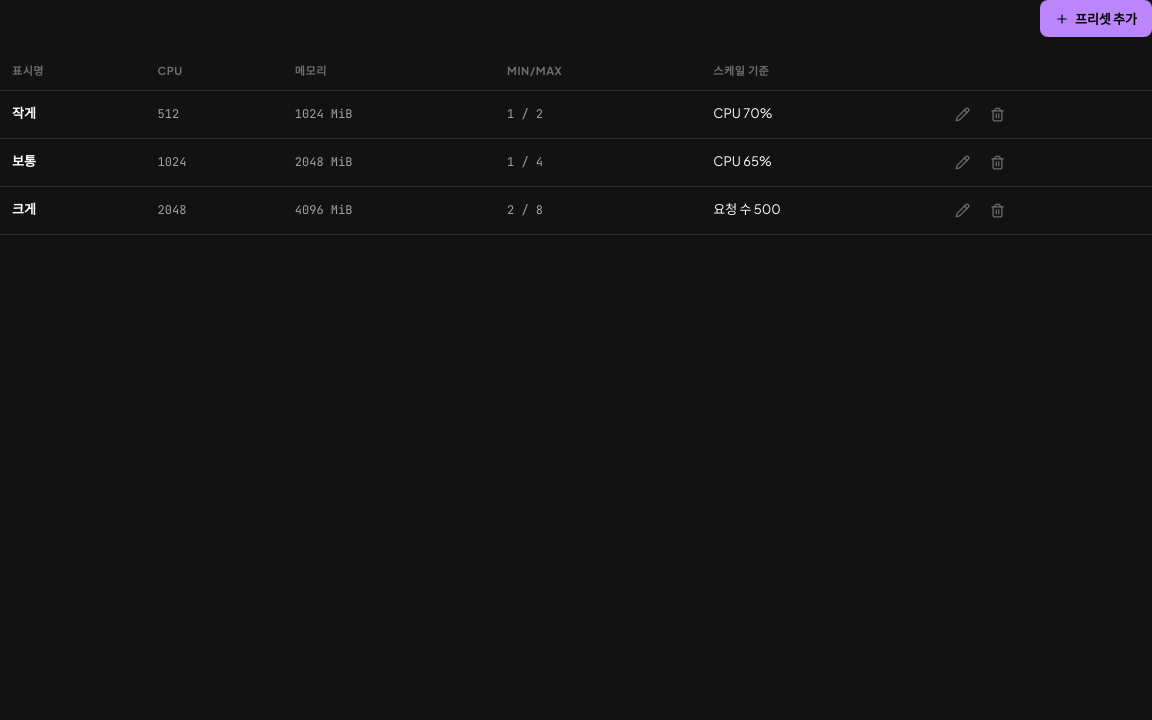
Scenario: M3 — 프리셋 삭제 › 사용 중(409 IN_USE)이면 서버 message 를 보여주고 목록은 그대로 둔다
Expected: the text "보통" is shown, [0,138,146,186]
Click the button named "삭제" in the row of "보통": (997,162) [986,150,1009,174]
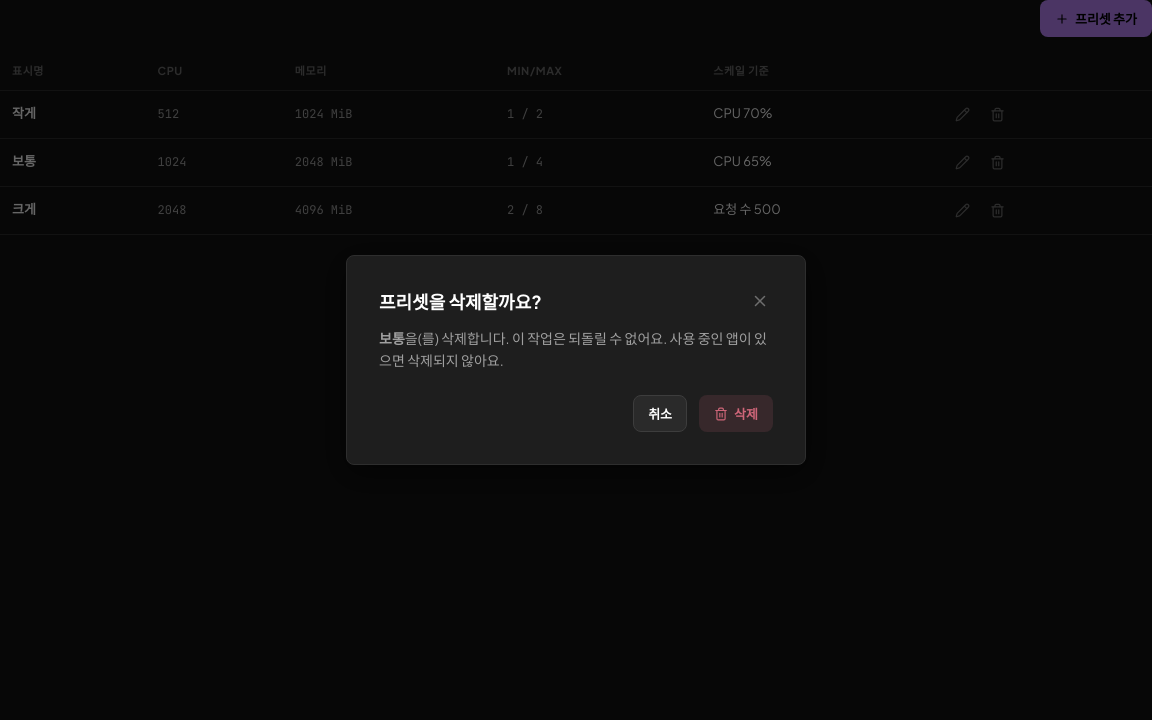
Click the button "삭제": (736,414) [699,395,773,432]
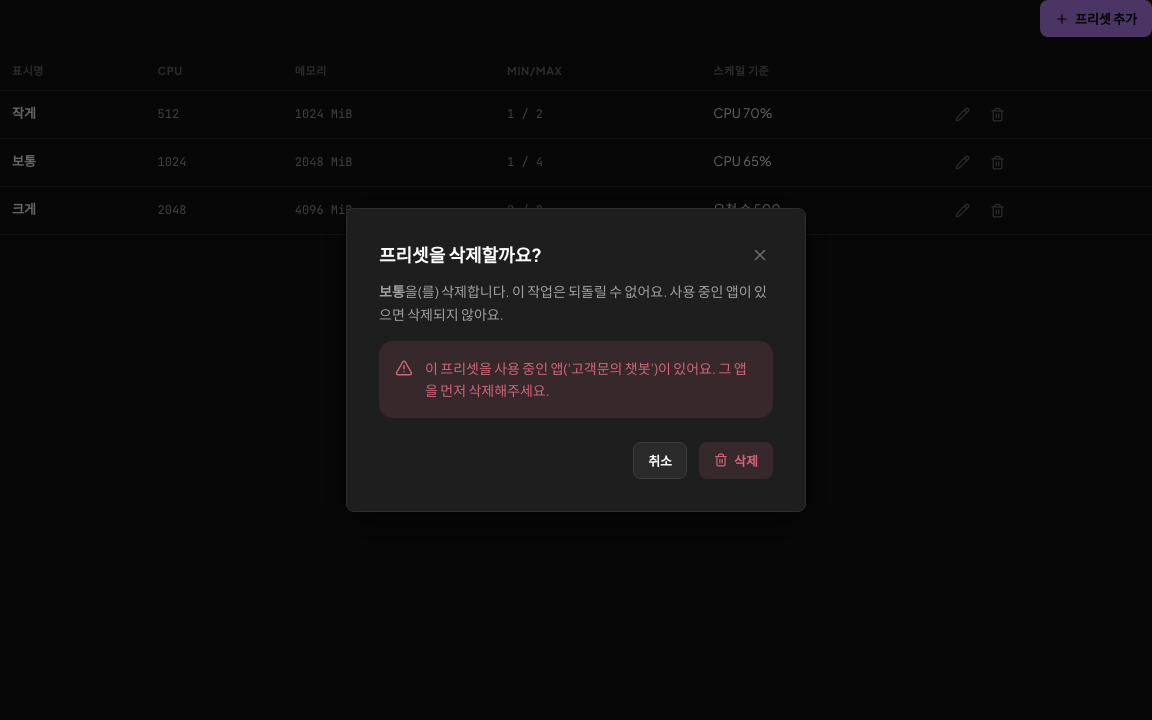
Expected: the message shows "이 프리셋을 사용 중인 앱('고객문의 챗봇')이 있어요.", [425,359,746,399]
# 목록 유지 — 모달을 닫아도 행이 남아 있다.
Click the button "취소": (660,460) [633,442,687,479]
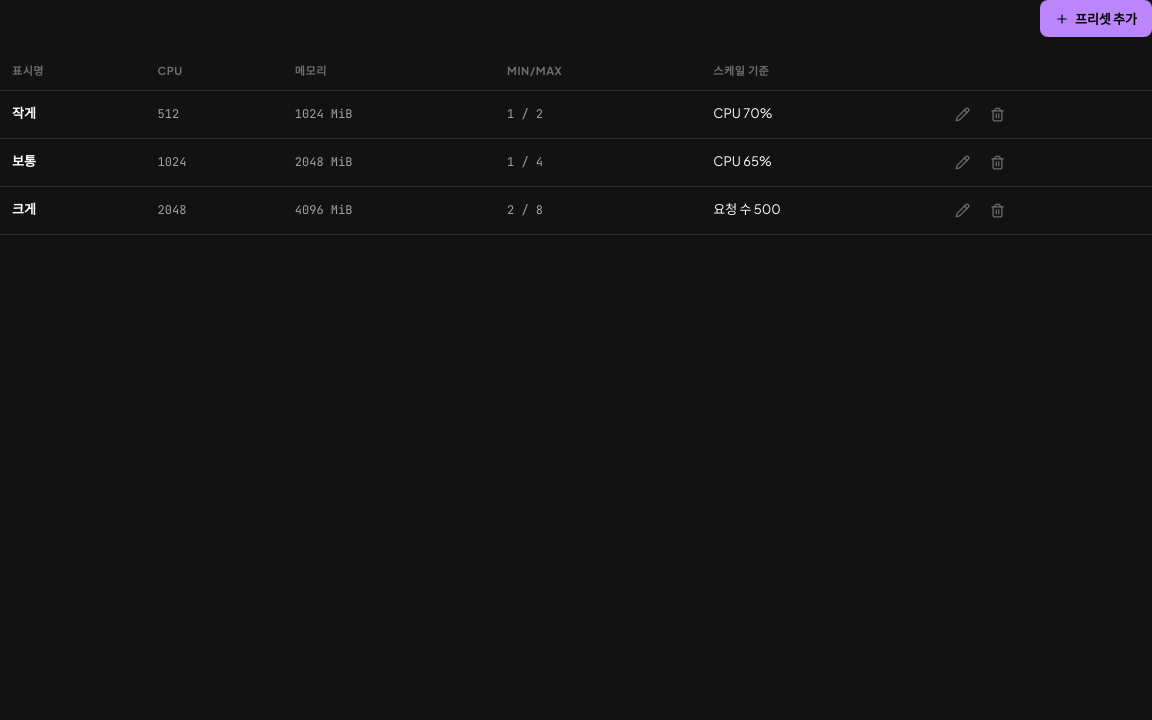
Expected: the text "보통" is shown, [0,138,146,186]
Expected: the dialog is gone
